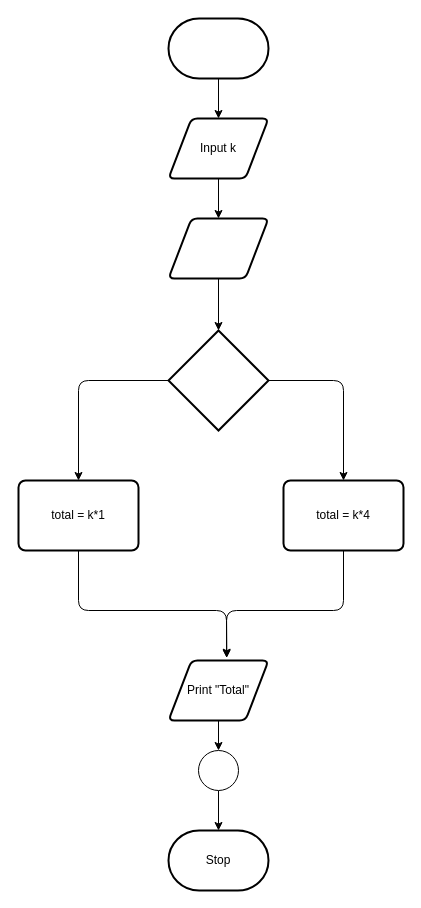
The diagram is 421 pixels wide and 908 high, and some of its shapes have lost their labels. The centre of each missing label's shape, as x and y in pixels:
ch == ev: (218,380)
Input ch: (218,248)
Start: (218,48)
